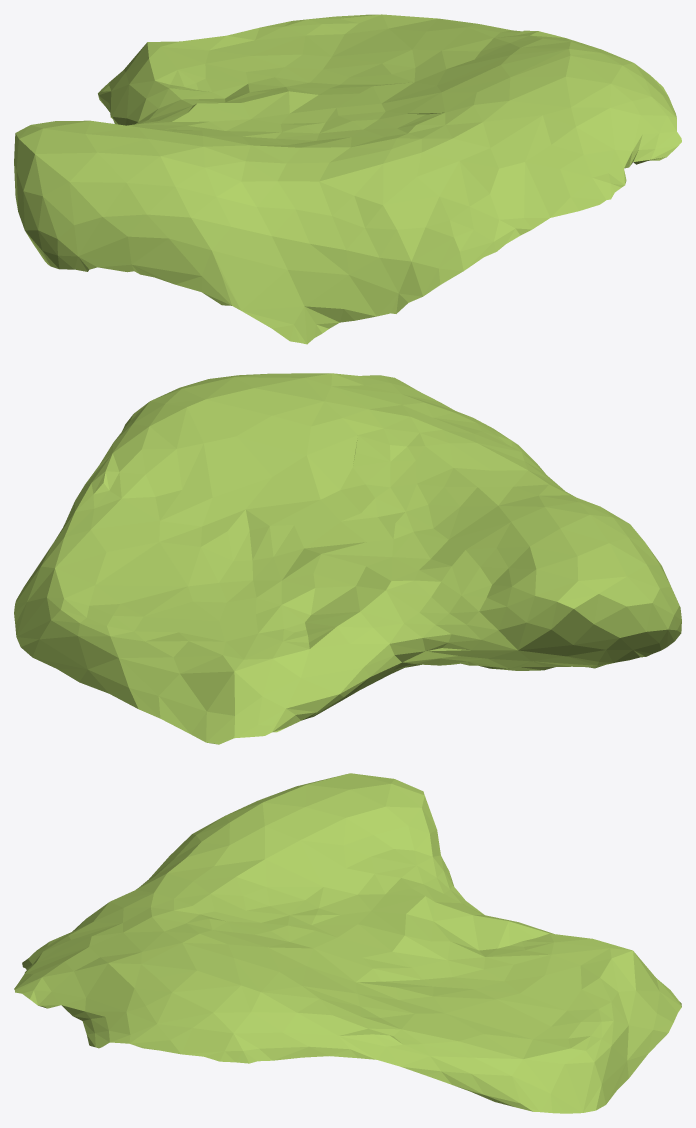
File: hill_012.glb
3 renders of one model, top to bottom at view 1: azimuth 30°, elevation 25°; view 2: azimuth 150°, elevation 25°; view 3: azimuth 270°, elevation 25°, orthographic.
Parts seen in each view (by area): view 1: hill_012; view 2: hill_012; view 3: hill_012.
Boxes of the visible parts, x1,y1,x2,y2 form: hill_012: [14, 14, 681, 344]; hill_012: [14, 373, 681, 744]; hill_012: [14, 773, 681, 1113].
Bounding box in the file's own units: 91 × 22.49 × 90.52.
1 material, 1 textured.
